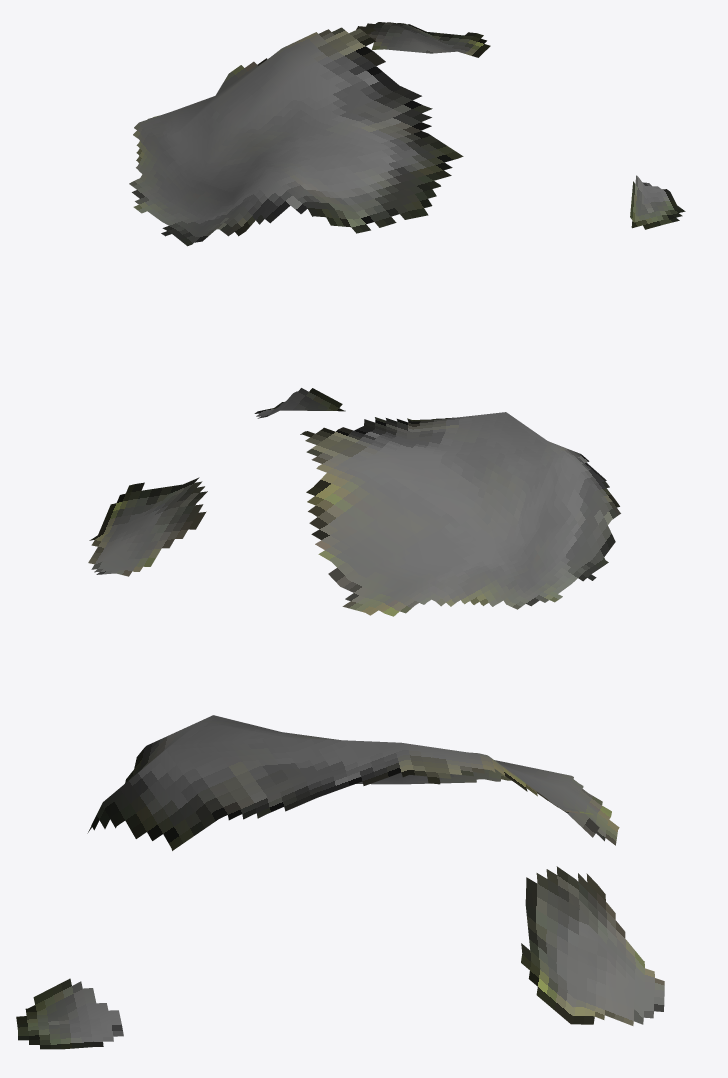
Rendered from Rubblepile2.fbx.
The picture shows the model from 3 angles, top to bottom: view 1: azimuth 30°, elevation 25°; view 2: azimuth 150°, elevation 25°; view 3: azimuth 270°, elevation 25°; orthographic projection. The views are drawn at different scales.
Visible parts, largest first — view 1: Rubble1; view 2: Rubble1; view 3: Rubble1.
Part boxes in pixels (x1=…): Rubble1: x1=129, y1=22, x2=685, y2=246; Rubble1: x1=88, y1=388, x2=620, y2=616; Rubble1: x1=16, y1=715, x2=664, y2=1049.
Bounding box in the file's own units: 1699 × 426 × 1698.
